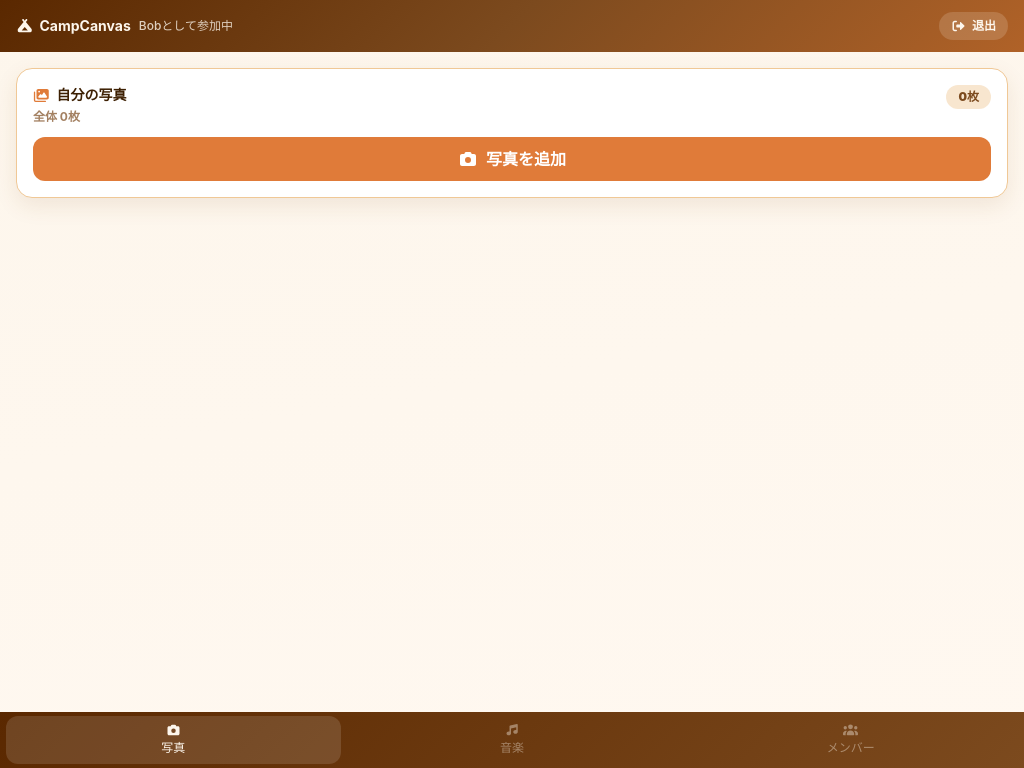
Test: MainPage - 参加者 › メンバータブでホストにcrownアイコンが付く
Click the tab "メンバー" at (851, 740), box [683,716,1018,764]
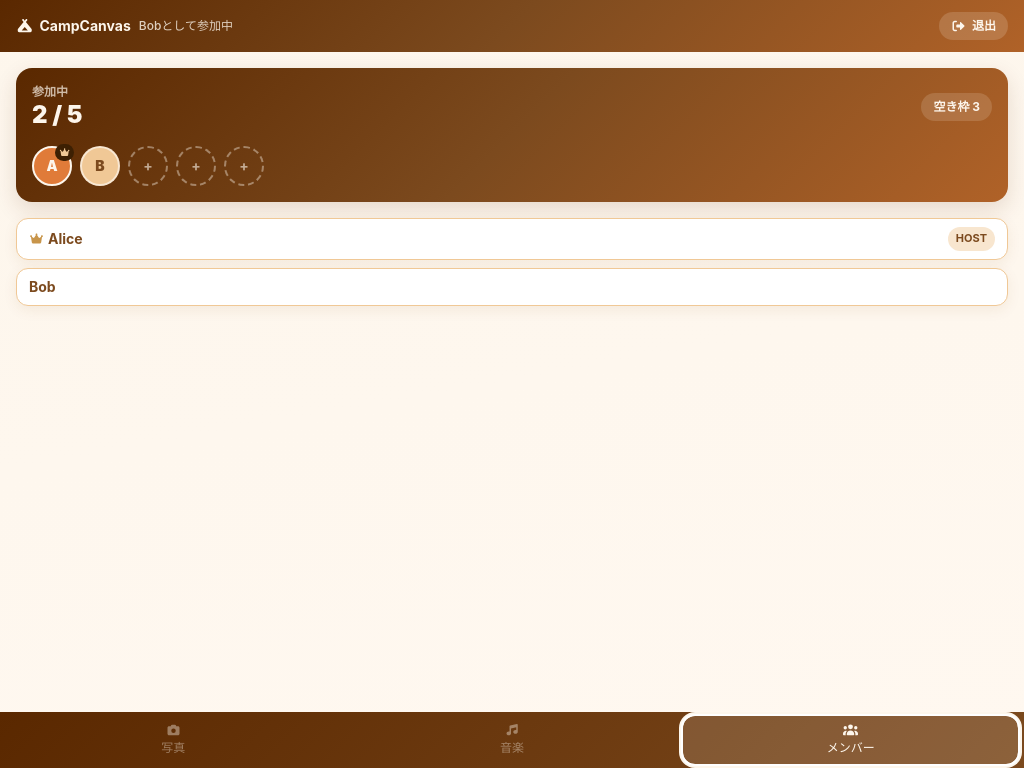
Result: the text "Alice" is shown at [48,229,83,249]
